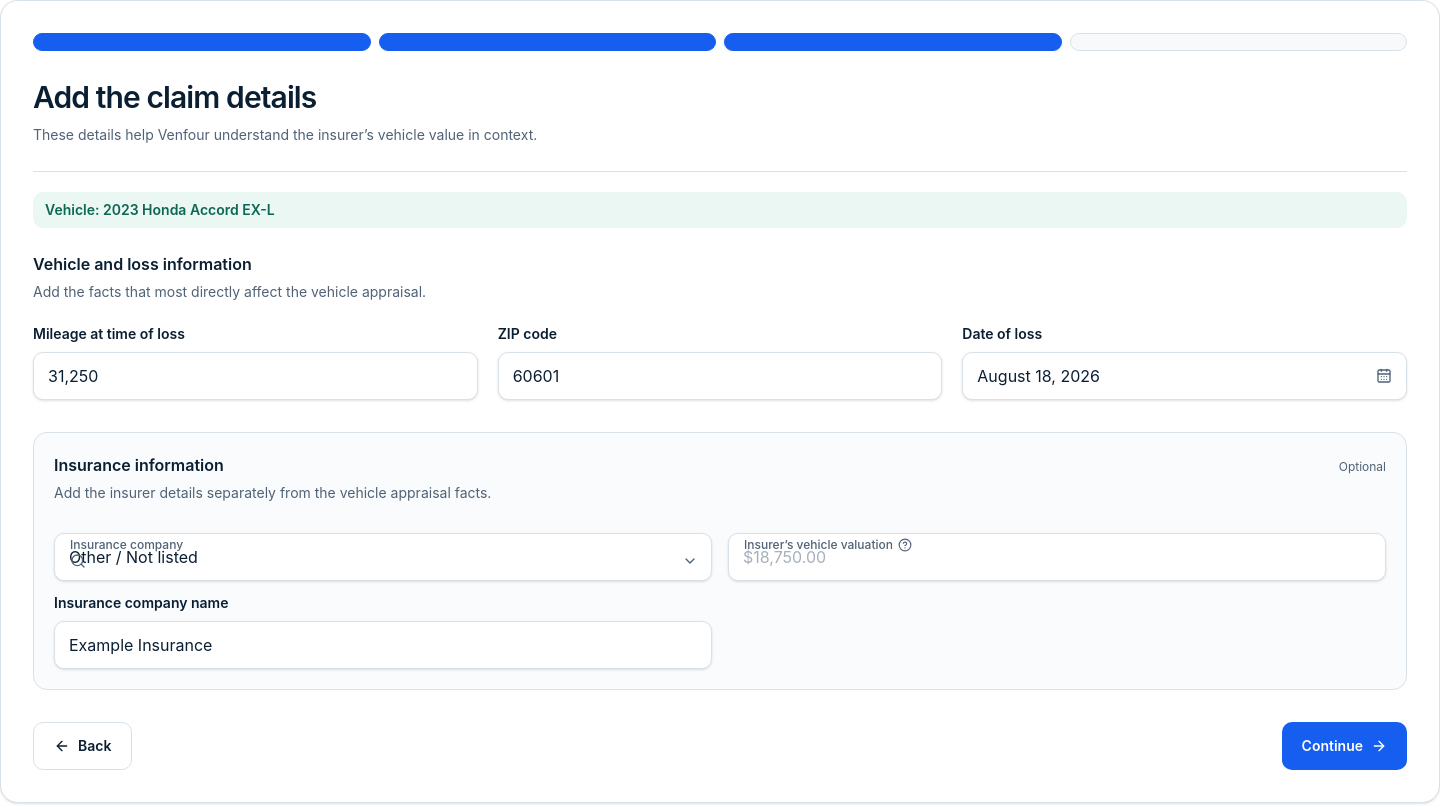
Test: total-loss intake step presentation › asks only for the necessary claim and insurance facts
expect the field labelled "Mileage at time of loss" is shown: met, box [33,352,478,400]
expect the field labelled "ZIP code" is shown: met, box [498,352,942,400]
Hover over the button named "More information about Insurer’s vehicle valuation" at x=905, y=545, box [897,537,913,553]
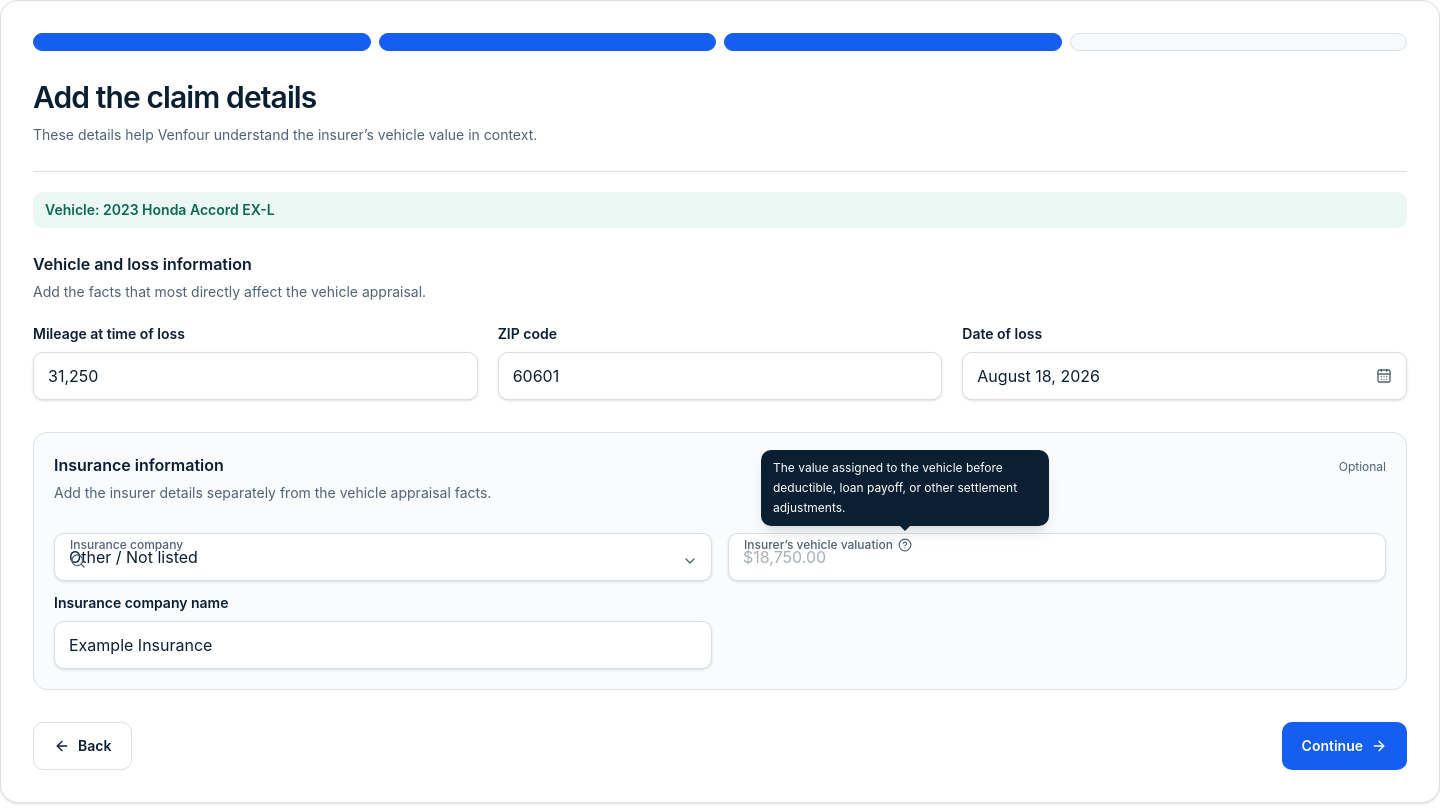
expect the tooltip shows "The value assigned to the vehicle before deductible, loan payoff, or other settlement adjustments.": met, box [773,460,1017,515]
